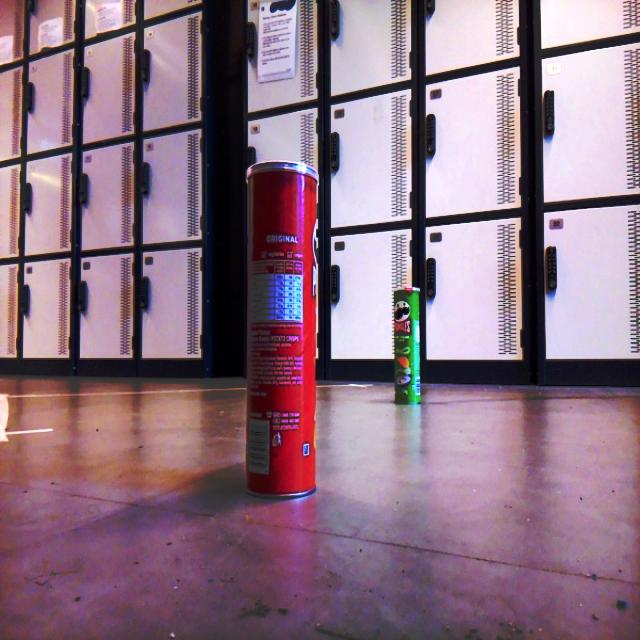greenpringles: (385, 274, 431, 414)
redpringles: (234, 144, 329, 513)
